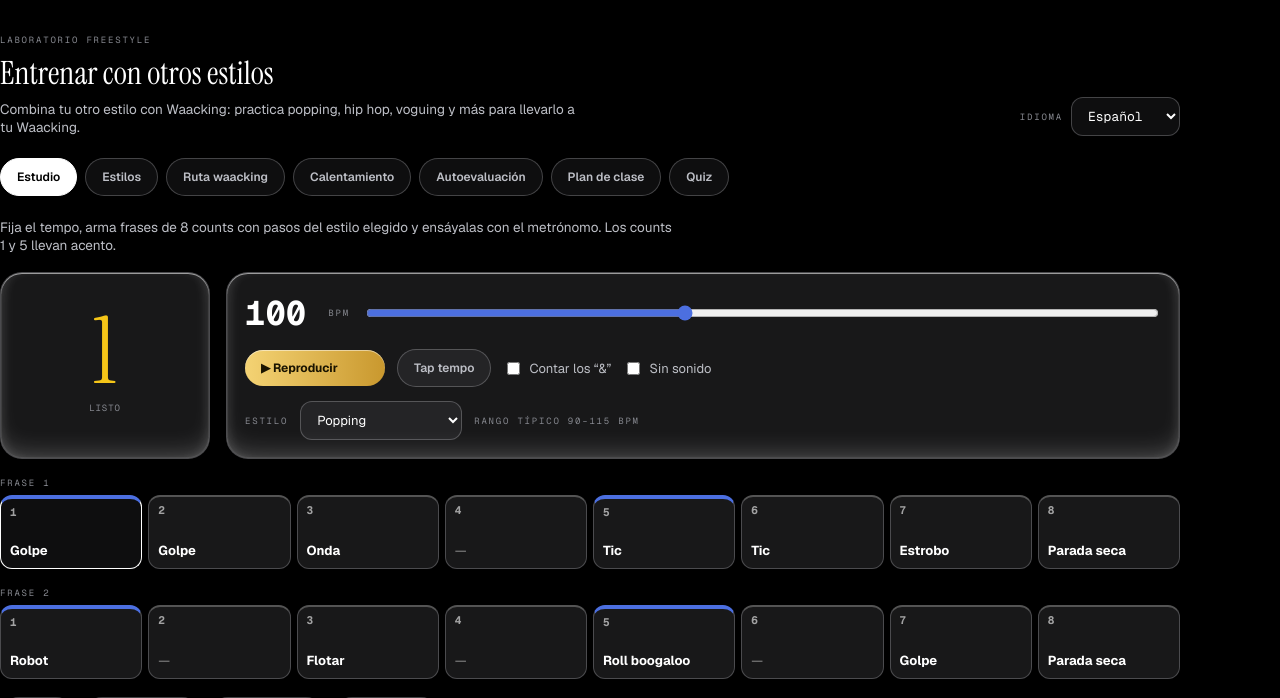
Test: Entrenar con otros estilos › el plan de clase suma 75 minutos y sube 5 al pulsar +
What coordinates should you click on to do the following:
click the tab "Plan de clase"
I would click on:
 (606, 177)
Its box is [551,158,661,196].
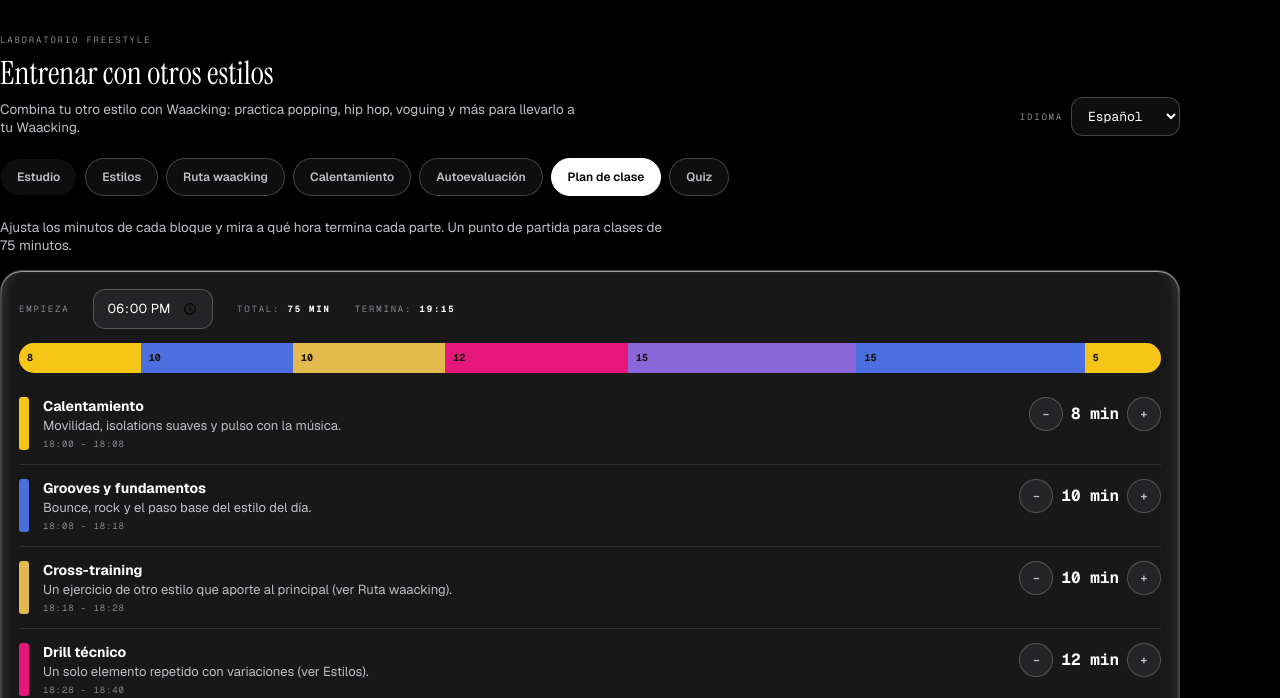
Expected: the text "75 min" is shown, [288,303,331,315]
What coordinates should you click on to do the following:
click the button named "más 5 minutos"
I would click on:
 (1144, 414)
Its box is [1127,397,1161,431].
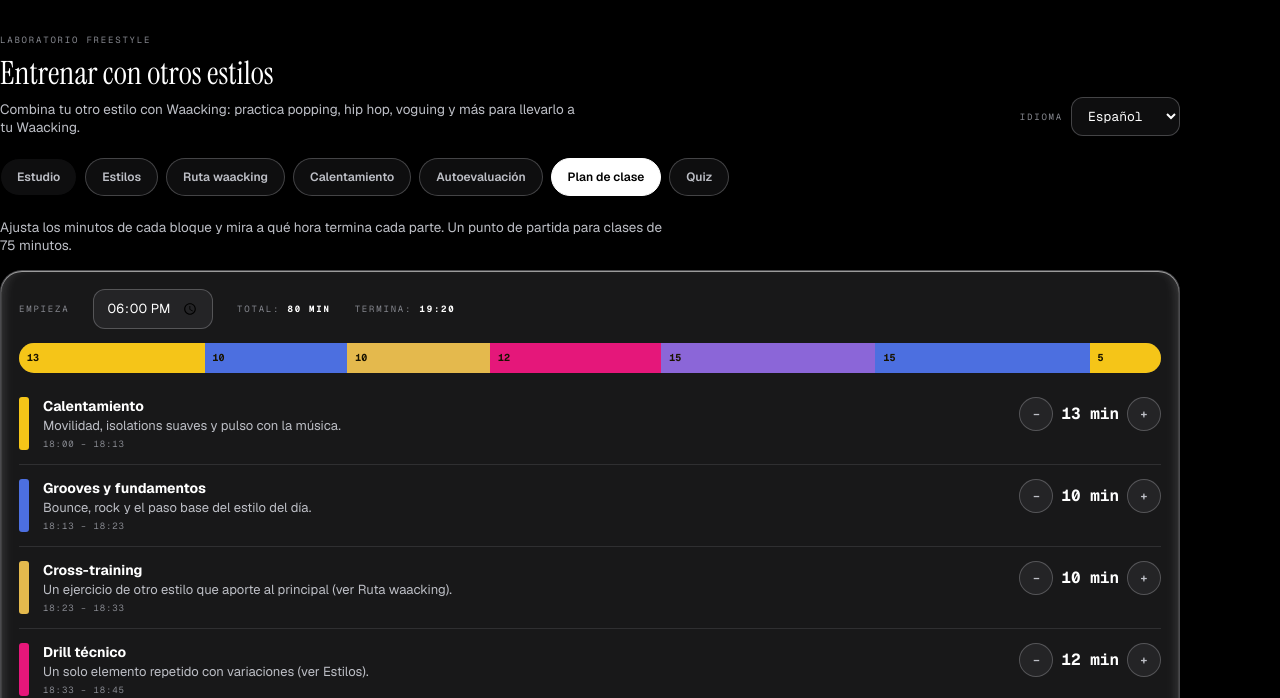
Expected: the text "80 min" is shown, [288,303,331,315]
